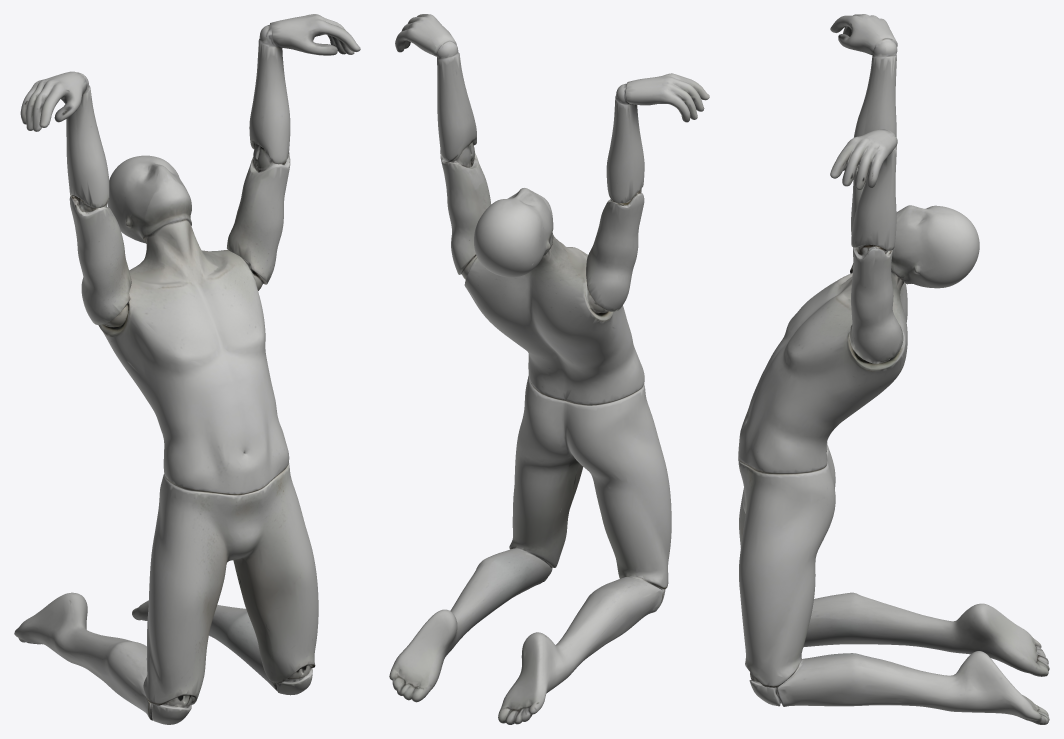
The picture shows the model from 3 angles, left to right: view 1: azimuth 30°, elevation 25°; view 2: azimuth 150°, elevation 25°; view 3: azimuth 270°, elevation 25°; orthographic projection. The views are drawn at different scales.
Parts seen in each view (by area): view 1: node_0; view 2: node_0; view 3: node_0.
Part boxes in pixels (box(x1,y1,x2,y2)): node_0: box(14, 14, 360, 724); node_0: box(389, 14, 709, 724); node_0: box(738, 14, 1049, 724).
Bounding box in the file's own units: 0.5598 × 1.09 × 0.4928.
Materials: 1 (1 with a texture image).
